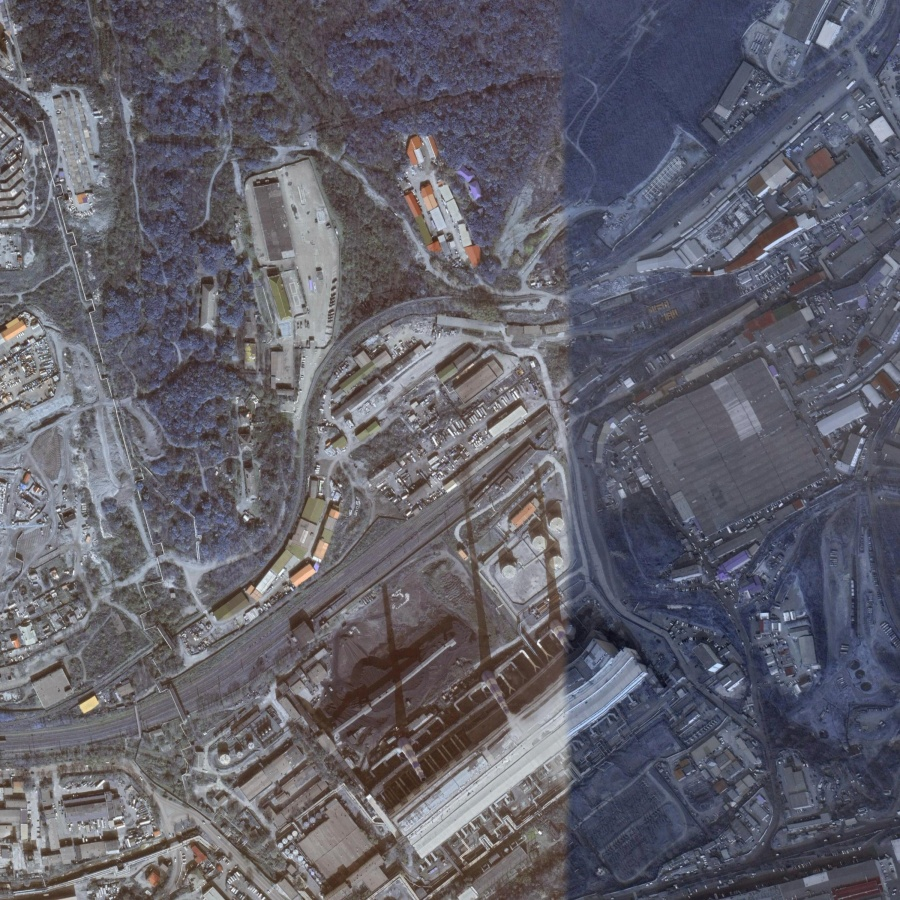PowerPlant: (316, 493, 644, 861)
